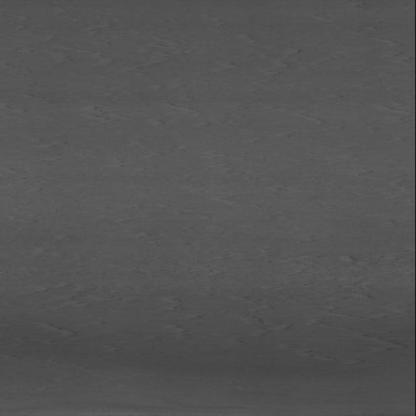silk_spot: (38, 211, 368, 364), (104, 85, 246, 145)
